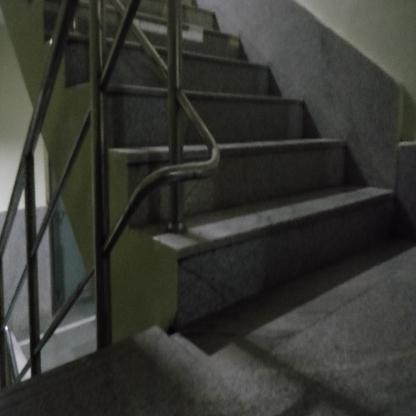stairs: (223, 97, 308, 306)
